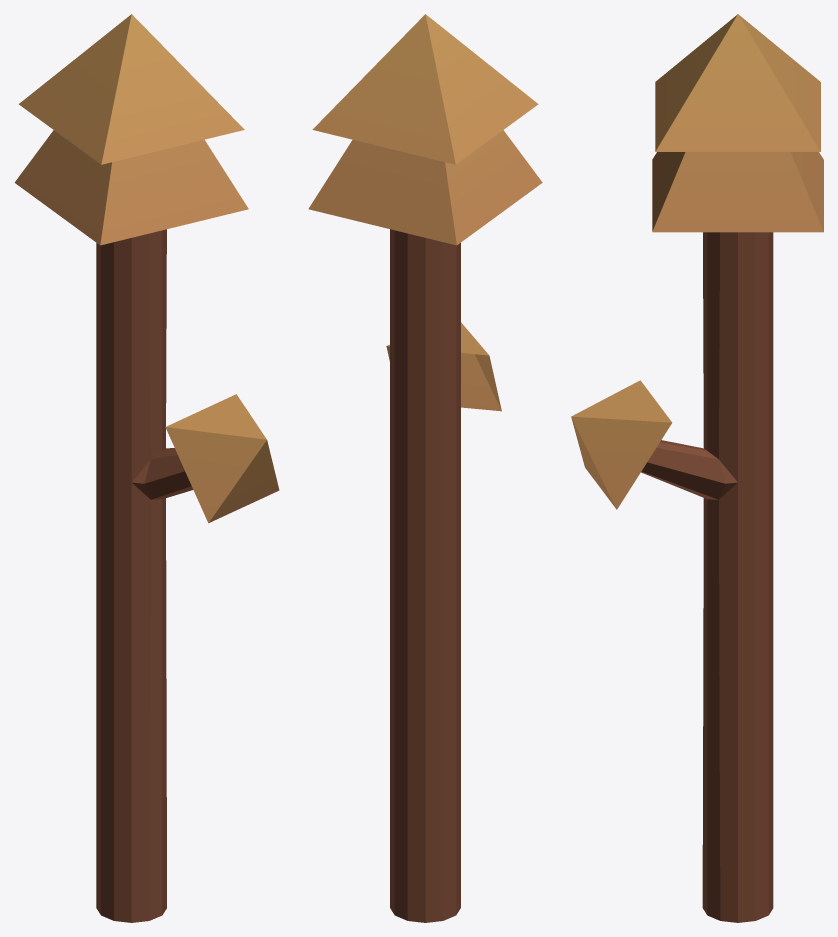
The model's file is Tree_25_gradient_yellow_vc.fbx.
3 renders of one model, left to right at view 1: azimuth 30°, elevation 25°; view 2: azimuth 150°, elevation 25°; view 3: azimuth 270°, elevation 25°, orthographic.
Visible parts, largest first — view 1: Tree_25_gradient_yellow_vc; view 2: Tree_25_gradient_yellow_vc; view 3: Tree_25_gradient_yellow_vc.
Part boxes in pixels (x1,y1,x2,y2): Tree_25_gradient_yellow_vc: [14, 14, 279, 922]; Tree_25_gradient_yellow_vc: [308, 14, 542, 922]; Tree_25_gradient_yellow_vc: [571, 14, 823, 922].
Size of the model in its own units: 58.32 by 308 by 79.03.
